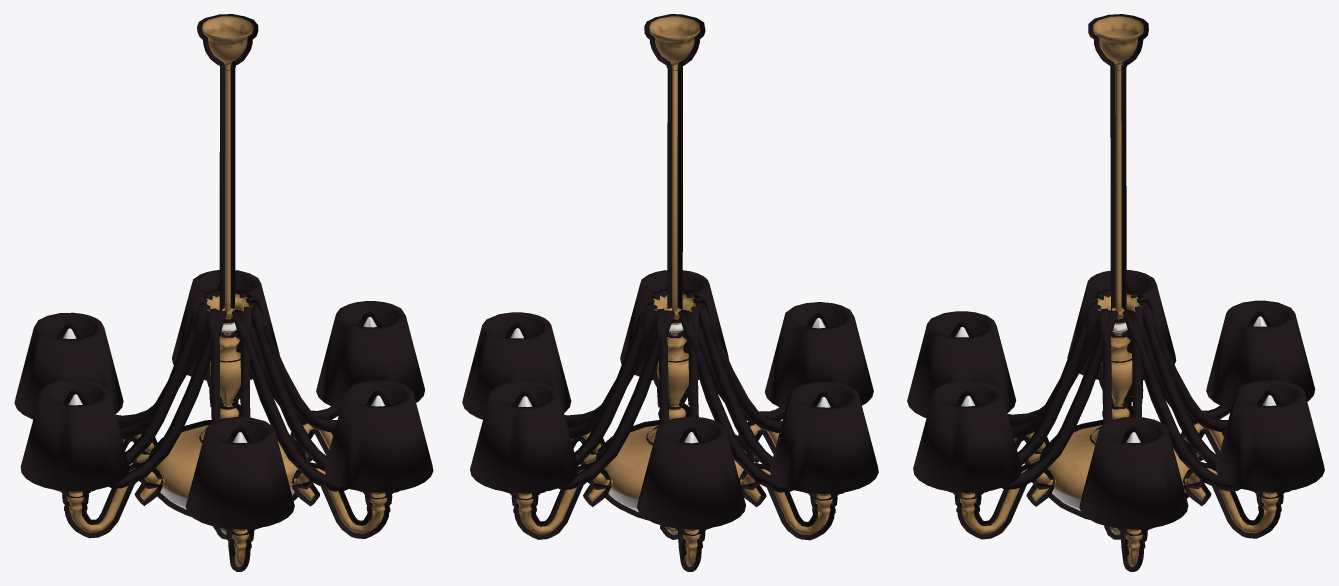
Rendered from SM_Int_Chandelier.fbx.
The picture shows the model from 3 angles, left to right: view 1: azimuth 30°, elevation 25°; view 2: azimuth 150°, elevation 25°; view 3: azimuth 270°, elevation 25°; orthographic projection.
Parts seen in each view (by area): view 1: SM_Int_Chandelier; view 2: SM_Int_Chandelier; view 3: SM_Int_Chandelier.
Part boxes in pixels (x1=…): SM_Int_Chandelier: x1=14, y1=14, x2=433, y2=571; SM_Int_Chandelier: x1=462, y1=14, x2=878, y2=571; SM_Int_Chandelier: x1=907, y1=14, x2=1324, y2=571.
Size of the model in its own units: 0.693 by 0.8562 by 0.6334.
